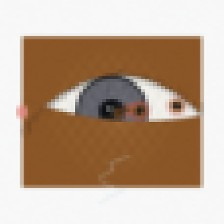foreign_body_visible: (105, 103, 131, 124)
